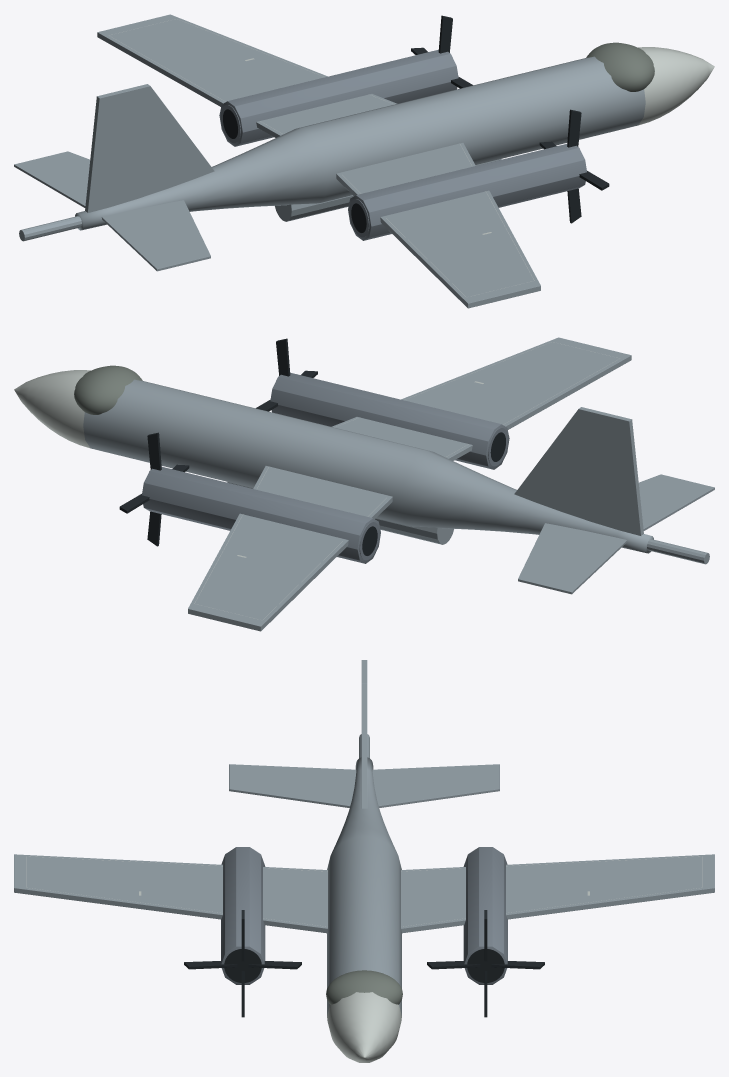
Rendered from fra_mpa_atlantic2.glb.
The picture shows the model from 3 angles, top to bottom: view 1: azimuth 30°, elevation 25°; view 2: azimuth 150°, elevation 25°; view 3: azimuth 270°, elevation 25°; orthographic projection. The views are drawn at different scales.
Visible parts, largest first — view 1: fra_mpa_atlantic2; view 2: fra_mpa_atlantic2; view 3: fra_mpa_atlantic2.
Boxes of the visible parts, x1,y1,x2,y2 form: fra_mpa_atlantic2: (14, 14, 714, 308); fra_mpa_atlantic2: (14, 337, 714, 631); fra_mpa_atlantic2: (14, 660, 714, 1062).
Size of the model in its own units: 10 by 2.46 by 9.27.
